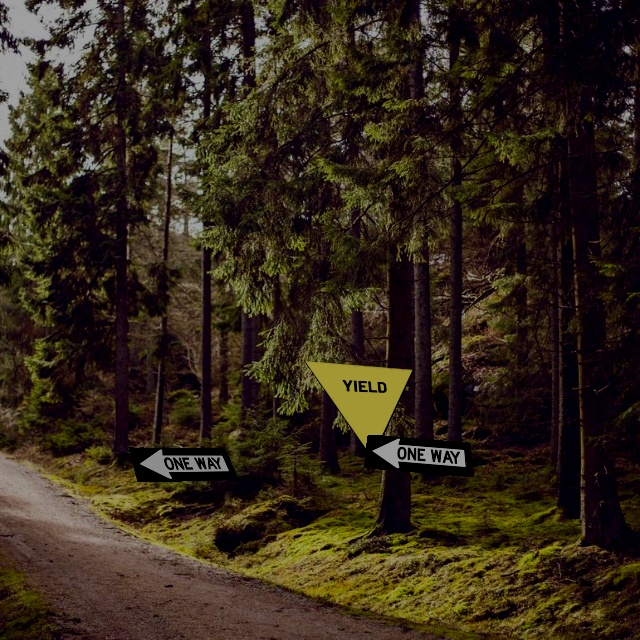ONE_WAY_ left: (363, 434, 474, 477), (128, 447, 239, 482)
YIELD: (303, 360, 414, 459)
